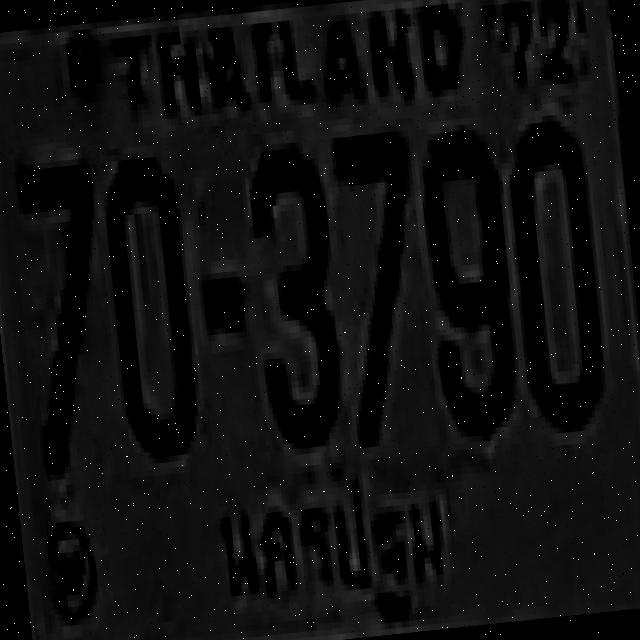0: (499, 116, 608, 427), (96, 149, 200, 454)
3: (238, 140, 346, 445)
7: (325, 125, 432, 442), (12, 152, 118, 468)
9: (412, 121, 520, 432)
NakhonPathom: (208, 457, 459, 640)
